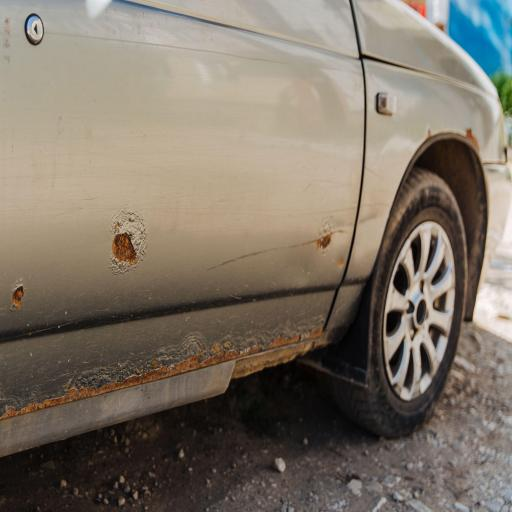segmentation: (0, 328, 323, 419), (231, 339, 319, 378), (112, 233, 136, 264), (11, 281, 25, 311), (466, 128, 479, 149), (317, 232, 332, 249)
